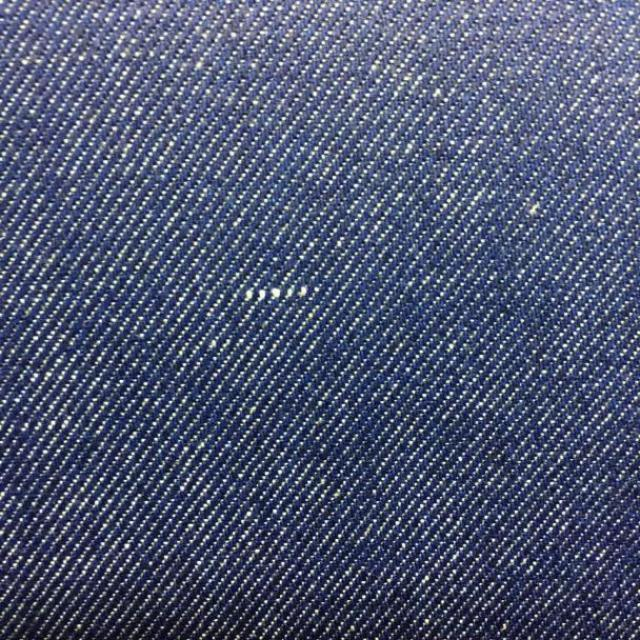Knot: (244, 285, 309, 302)
